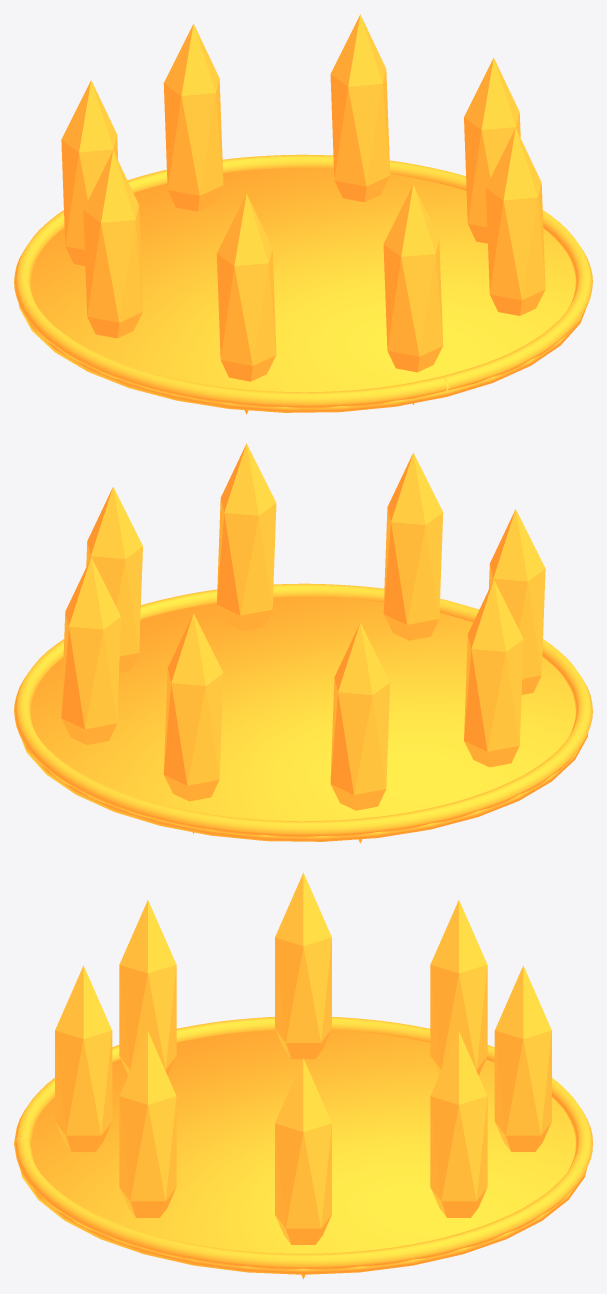
Rendered from ground-0-refined-v15.fbx.
The picture shows the model from 3 angles, top to bottom: view 1: azimuth 30°, elevation 25°; view 2: azimuth 150°, elevation 25°; view 3: azimuth 270°, elevation 25°; orthographic projection.
Visible parts, largest first — view 1: GroundSurface, AreaRune.002, ElementalShard.015, ElementalShard.008, ElementalShard.011, ElementalShard.014, ElementalShard.012, ElementalShard.009, ElementalShard.010, ElementalShard.013; view 2: GroundSurface, AreaRune.002, ElementalShard.013, ElementalShard.012, ElementalShard.009, ElementalShard.014, ElementalShard.008, ElementalShard.011, ElementalShard.010, ElementalShard.015; view 3: GroundSurface, AreaRune.002, ElementalShard.009, ElementalShard.011, ElementalShard.012, ElementalShard.008, ElementalShard.014, ElementalShard.010, ElementalShard.013, ElementalShard.015.
Part boxes in pixels (x1,y1,x2,y2): GroundSurface: (18,168,586,412); AreaRune.002: (14,154,592,408); ElementalShard.015: (216,194,276,414); ElementalShard.008: (383,184,443,404); ElementalShard.011: (330,14,390,202); ElementalShard.014: (83,150,142,338); ElementalShard.012: (163,24,223,211); ElementalShard.009: (486,128,545,315); ElementalShard.010: (464,58,520,243); ElementalShard.013: (61,80,118,265); GroundSurface: (20,597,588,841); AreaRune.002: (14,583,592,837); ElementalShard.013: (330,623,390,843); ElementalShard.012: (163,613,223,833); ElementalShard.009: (216,443,276,631); ElementalShard.014: (464,579,523,767); ElementalShard.008: (383,453,443,640); ElementalShard.011: (61,557,120,744); ElementalShard.010: (86,487,142,672); ElementalShard.015: (488,509,545,694); GroundSurface: (18,1030,586,1274); AreaRune.002: (14,1017,592,1269); ElementalShard.009: (119,1031,176,1217); ElementalShard.011: (430,1031,487,1217); ElementalShard.012: (494,965,551,1151); ElementalShard.008: (55,965,112,1151); ElementalShard.014: (275,872,331,1059); ElementalShard.010: (275,1058,331,1279); ElementalShard.013: (430,900,487,1075); ElementalShard.015: (119,900,176,1075).
Bounding box in the file's own units: 94.8 × 40 × 94.79.
